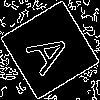A: (25, 25, 82, 78)
